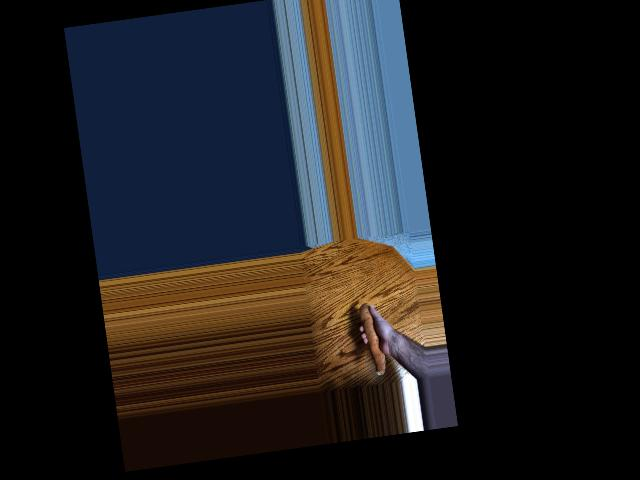sweet_potato: (355, 302, 389, 376)
